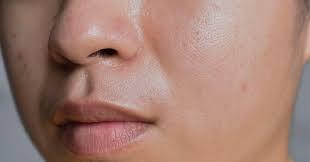Oily-Skin: (72, 7, 252, 89)
acne marks: (8, 34, 33, 76)
